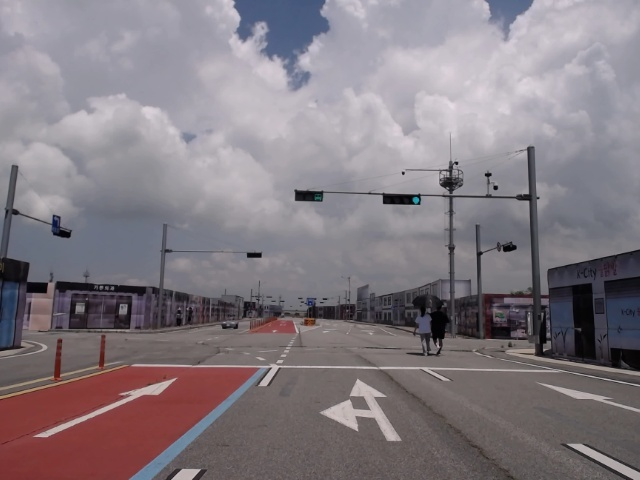straight_green_4: (382, 194, 421, 207)
